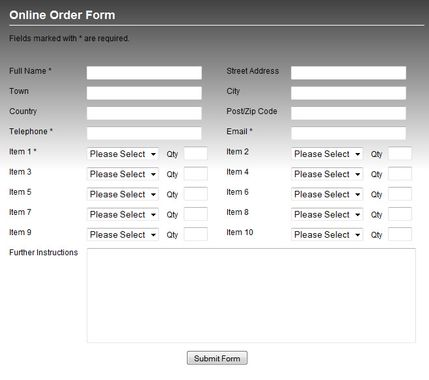_form_: (1, 1, 416, 380)
button: (186, 350, 249, 365)
field: (84, 84, 203, 101), (289, 125, 408, 142), (84, 65, 204, 81), (289, 105, 408, 121), (85, 125, 204, 141), (85, 105, 203, 121), (290, 85, 407, 101), (290, 65, 407, 80), (85, 146, 161, 163), (85, 165, 161, 182), (289, 226, 365, 243), (289, 206, 365, 223), (289, 185, 365, 202), (289, 164, 365, 181), (289, 144, 365, 161), (84, 225, 160, 242), (85, 206, 161, 223), (85, 185, 161, 202), (182, 225, 211, 242), (386, 186, 414, 203), (386, 206, 414, 223), (386, 225, 414, 242), (183, 185, 210, 202), (183, 145, 209, 162), (183, 165, 209, 182), (183, 206, 209, 223), (387, 145, 413, 161), (388, 165, 413, 181)
field_with_label: (8, 63, 206, 82), (8, 124, 206, 143), (7, 103, 205, 122), (7, 83, 205, 102), (226, 103, 411, 122), (226, 83, 410, 102), (226, 124, 411, 142), (8, 204, 163, 224), (226, 63, 408, 80), (225, 224, 366, 245), (8, 145, 162, 164), (9, 164, 162, 183), (10, 184, 163, 203), (9, 224, 162, 243), (226, 183, 367, 203), (226, 204, 366, 224), (226, 163, 367, 182), (227, 143, 366, 162), (166, 182, 212, 203), (166, 203, 211, 224), (164, 163, 211, 182), (371, 225, 417, 244), (166, 224, 212, 243), (371, 205, 416, 224), (166, 144, 210, 163), (371, 185, 415, 204), (372, 164, 414, 183), (371, 144, 415, 162)
